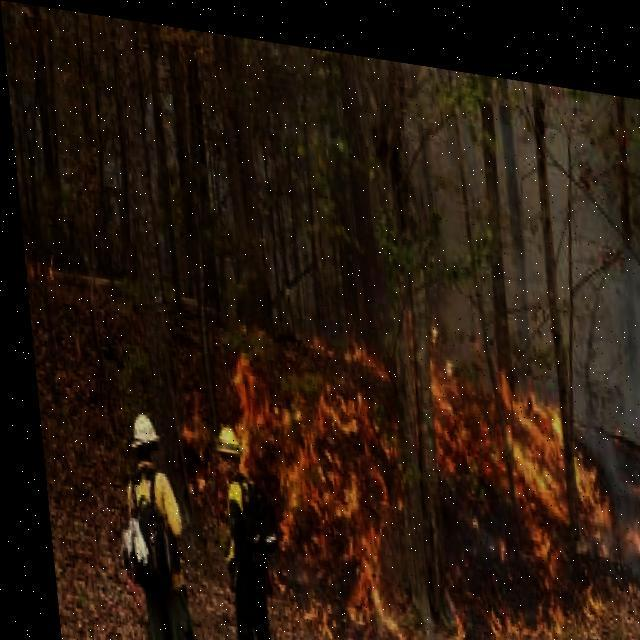Fire: (144, 213, 639, 639)
